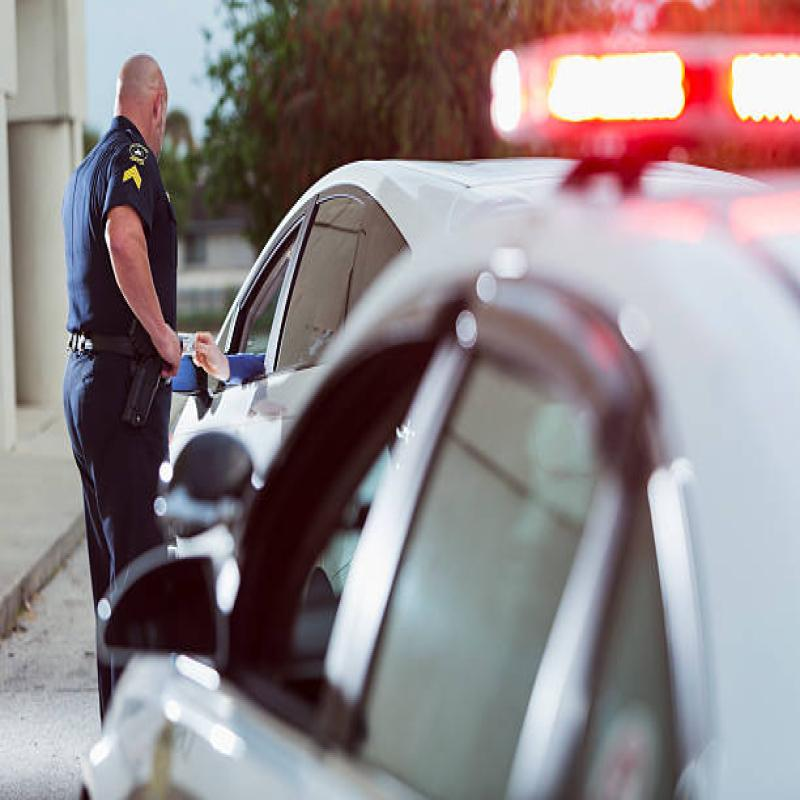AmbulanceSiren: (453, 38, 800, 167)
